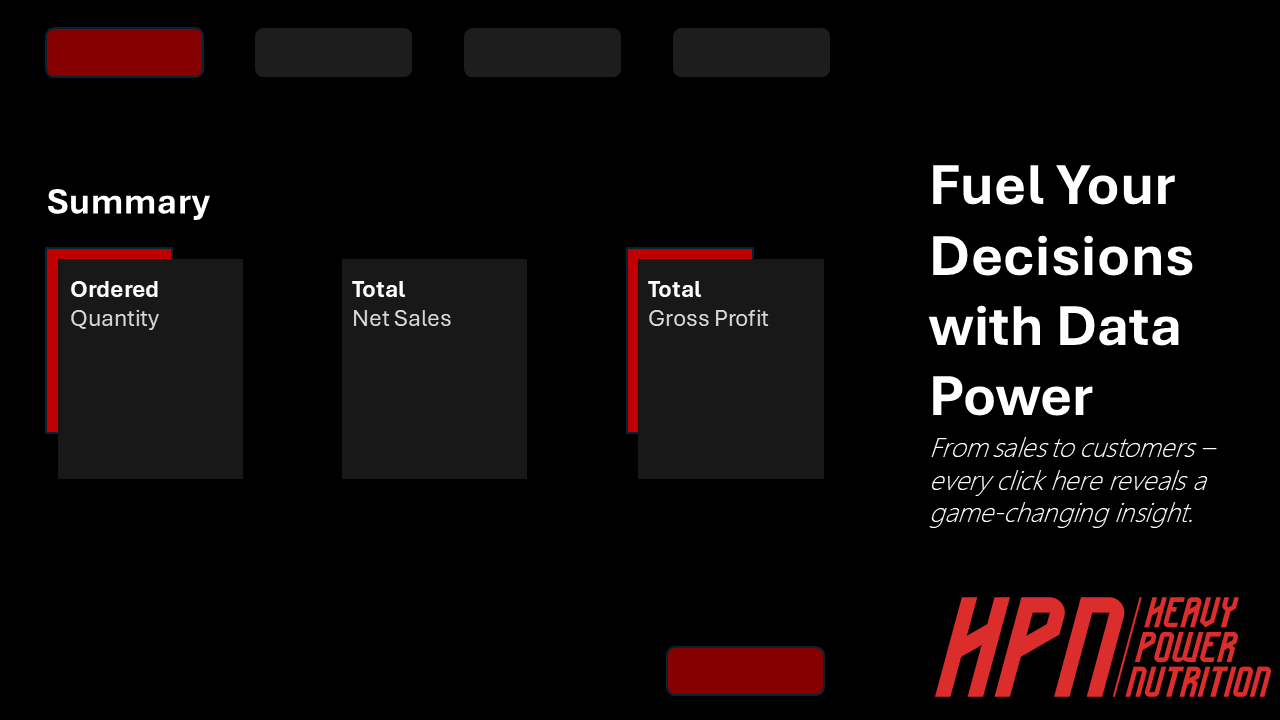

The page's visual inventory and layout, read from the dashboard file:
{"tool":"powerbi","page":{"name":"Home","canvas":[1280,720],"ordinal":0},"visuals":[{"type":"card","fields":{"Values":["All Measures.Qty"]},"box":[64,342,176,128],"z":0},{"type":"card","fields":{"Values":["All Measures.Net Sales"]},"box":[352,342,176,128],"z":1000},{"type":"card","fields":{"Values":["All Measures.Gross Profit Margin"]},"box":[640,342,176,128],"z":2000},{"type":"slicer","title":"Select Data Range","fields":{"Values":["Calendar.Date"]},"box":[16,592,608,96],"z":3000},{"type":"actionButton","box":[80,27,96,48],"z":4000},{"type":"actionButton","box":[261,27,144,48],"z":5000},{"type":"actionButton","box":[494,27,96,48],"z":6000},{"type":"actionButton","box":[704,27,96,48],"z":7000},{"type":"actionButton","box":[672,643,144,48],"z":8000}]}

Visuals, with their boxes in screenshot pixels (x1, y1, x2, y2), scaled from the page's 1280x720 canvas onto the 1280x720 screenshot:
card - All Measures.Qty: region(64, 342, 240, 470)
card - All Measures.Net Sales: region(352, 342, 528, 470)
card - All Measures.Gross Profit Margin: region(640, 342, 816, 470)
"Select Data Range" slicer: region(16, 592, 624, 688)
actionButton: region(80, 27, 176, 75)
actionButton: region(261, 27, 405, 75)
actionButton: region(494, 27, 590, 75)
actionButton: region(704, 27, 800, 75)
actionButton: region(672, 643, 816, 691)
